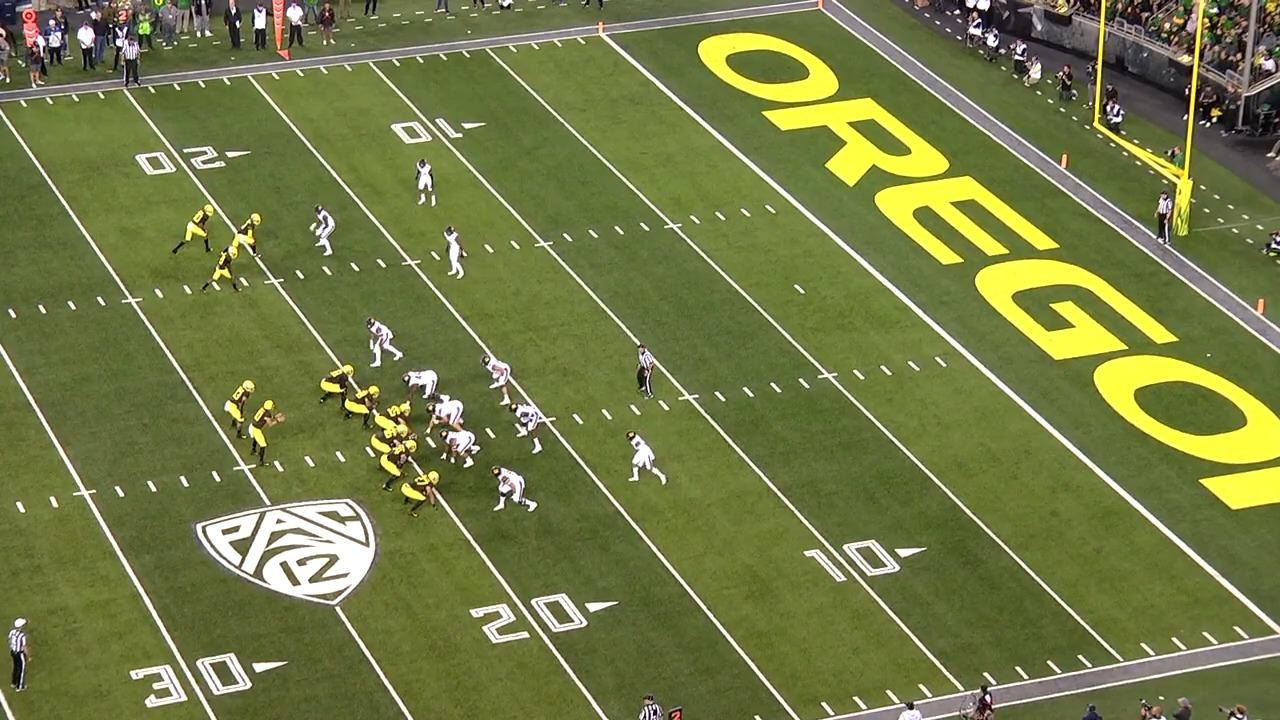defense: (627, 430, 670, 491), (494, 462, 542, 515), (362, 315, 402, 370), (424, 395, 470, 441), (510, 400, 546, 456), (482, 352, 517, 408), (400, 368, 447, 406), (441, 428, 484, 469), (312, 203, 340, 260), (440, 222, 467, 281), (413, 157, 441, 211)
oline: (377, 440, 416, 493), (320, 362, 362, 409), (345, 384, 383, 431), (369, 426, 413, 458), (377, 400, 411, 433)
qb: (250, 400, 284, 468)
ref: (4, 614, 32, 694), (633, 341, 660, 402), (1151, 184, 1175, 250), (118, 33, 144, 89), (633, 693, 666, 720)
skill: (210, 211, 261, 287), (172, 199, 219, 259), (207, 225, 243, 294), (223, 377, 256, 443), (405, 471, 445, 521)
